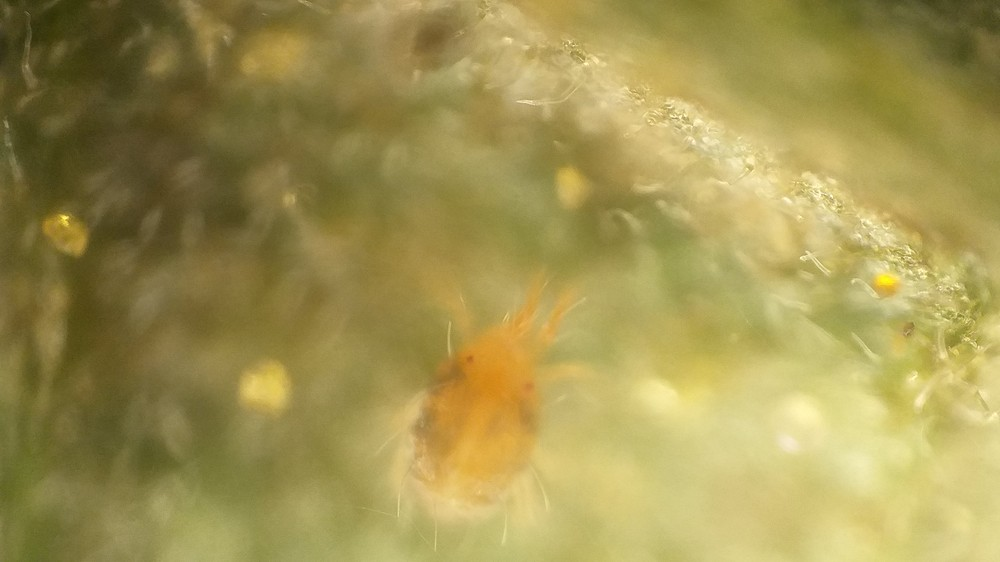Aracnido Rojo: (336, 255, 628, 554)
